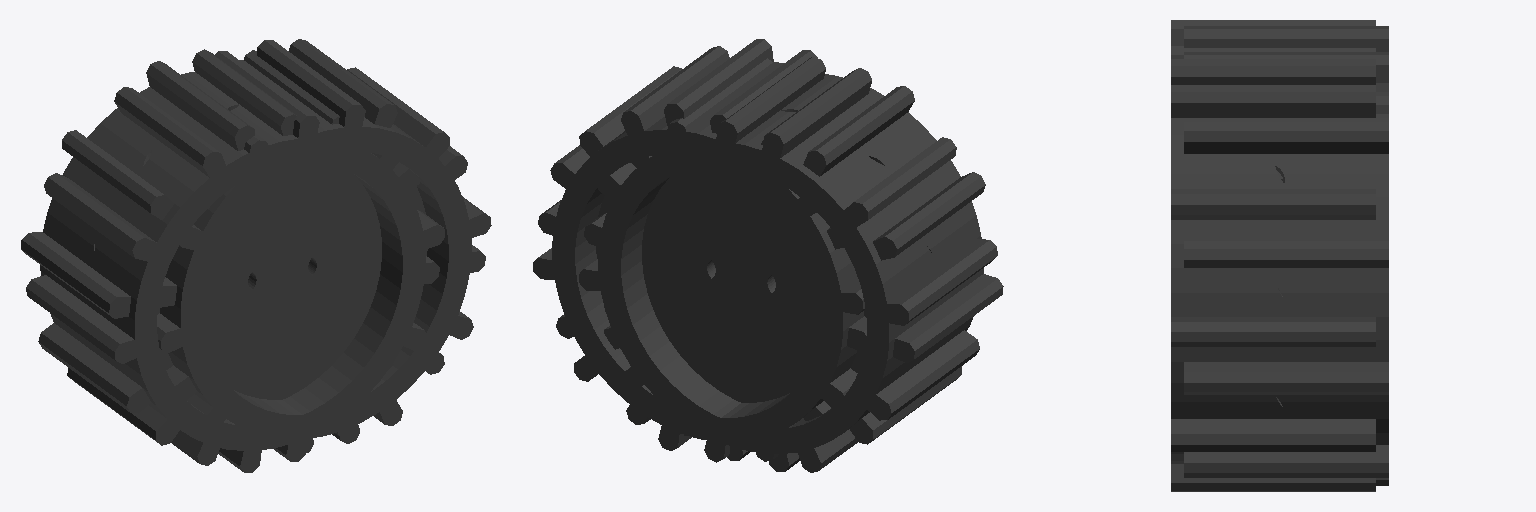
robot.urdf — CubeBuilder:
<?xml version="1.0" ?>
<robot name="CubeBuilder">

    <!-- Structure -->
    <link name="structure">
        <visual>
            <geometry>
                <mesh filename="BuildingBlocks_main_structure_v2.stl" scale="10 10 10"/>
            </geometry>
            <material name="dark_grey">
                <color rgba="0.6 0.6 0.6 1"/>
            </material>
        </visual>
        <collision>
            <geometry>
                <mesh filename="BuildingBlocks_main_structure.stl" scale="10 10 10"/>
            </geometry>
        </collision>
        <inertial>
            <mass value="1.0"/>
            <inertia ixx="0.1" ixy="0" ixz="0" iyy="0.1" iyz="0" izz="0.1"/>
            <origin xyz="0 0 0" rpy="0 0 0"/>
        </inertial>
    </link>

    <!-- Wheel Links -->
    <link name="wheel_FR">
        <visual>
            <geometry>
                <mesh filename="BuildingBlocks_wheel.stl" scale="10 10 10"/>
            </geometry>
            <material name="black">
                <color rgba="0.3 0.3 0.3 1"/>
            </material>
        </visual>
        <collision>
            <geometry>
                <mesh filename="BuildingBlocks_wheel.stl" scale="10 10 10"/>
            </geometry>
        </collision>
        <inertial>
            <mass value="0.05"/>
            <inertia ixx="0.01" ixy="0" ixz="0" iyy="0.01" iyz="0" izz="0.01"/>
        </inertial>
    </link>

    <link name="wheel_FL">
        <visual>
            <geometry>
                <mesh filename="BuildingBlocks_wheel.stl" scale="10 10 10"/>
            </geometry>
            <material name="black">
                <color rgba="0.3 0.3 0.3 1"/>
            </material>
        </visual>
        <collision>
            <geometry>
                <mesh filename="BuildingBlocks_wheel.stl" scale="10 10 10"/>
            </geometry>
        </collision>
        <inertial>
            <mass value="0.05"/>
            <inertia ixx="0.01" ixy="0" ixz="0" iyy="0.01" iyz="0" izz="0.01"/>
        </inertial>
    </link>

    <link name="wheel_RR">
        <visual>
            <geometry>
                <mesh filename="BuildingBlocks_wheel.stl" scale="10 10 10"/>
            </geometry>
            <material name="black">
                <color rgba="0.3 0.3 0.3 1"/>
            </material>
        </visual>
        <collision>
            <geometry>
                <mesh filename="BuildingBlocks_wheel.stl" scale="10 10 10"/>
            </geometry>
        </collision>
        <inertial>
            <mass value="0.05"/>
            <inertia ixx="0.01" ixy="0" ixz="0" iyy="0.01" iyz="0" izz="0.01"/>
        </inertial>
    </link>

    <link name="wheel_RL">
        <visual>
            <geometry>
                <mesh filename="BuildingBlocks_wheel.stl" scale="10 10 10"/>
            </geometry>
            <material name="black">
                <color rgba="0.3 0.3 0.3 1"/>
            </material>
        </visual>
        <collision>
            <geometry>
                <mesh filename="BuildingBlocks_wheel.stl" scale="10 10 10"/>
            </geometry>
        </collision>
        <inertial>
            <mass value="0.05"/>
            <inertia ixx="0.01" ixy="0" ixz="0" iyy="0.01" iyz="0" izz="0.01"/>
        </inertial>
    </link>

    <!-- Joints to Attach Wheels to Structure with Free Rotation on Y-axis -->

    <!-- Front Right Wheel -->
    <joint name="wheel_FR_joint" type="continuous">
        <parent link="structure"/>
        <child link="wheel_FR"/>
        <origin xyz="0.0307204 -0.0436276 0." rpy="0 0 0"/>
        <axis xyz="0 1 0"/>
    </joint>

    <!-- Front Left Wheel -->
    <joint name="wheel_FL_joint" type="continuous">
        <parent link="structure"/>
        <child link="wheel_FL"/>
        <origin xyz="0.0307204 0.0436276 0" rpy="0 0 3.14159"/>
        <axis xyz="0 1 0"/>
    </joint>

    <!-- Rear Right Wheel -->
    <joint name="wheel_RR_joint" type="continuous">
        <parent link="structure"/>
        <child link="wheel_RR"/>
        <origin xyz="-0.030635 -0.0436276 0" rpy="0 0 0"/>
        <axis xyz="0 1 0"/>
    </joint>

    <!-- Rear Left Wheel -->
    <joint name="wheel_RL_joint" type="continuous">
        <parent link="structure"/>
        <child link="wheel_RL"/>
        <origin xyz="-0.030635 0.0436276 0" rpy="0 0 3.14159"/>
        <axis xyz="0 1 0"/>
    </joint>

</robot>

--- Facts derived from the render (not from the file) ---
3 views of the same robot in one strip: view 1: azimuth 30°, elevation 25°; view 2: azimuth 150°, elevation 25°; view 3: azimuth 270°, elevation 25° (orthographic).
Robot: CubeBuilder — 5 links, 4 joints (4 continuous); root link structure; default pose: every joint at zero.
Links seen in each view (by area): view 1: wheel_RR, wheel_FR, wheel_RL, wheel_FL; view 2: wheel_FL, wheel_RL, wheel_RR, wheel_FR; view 3: wheel_FR, wheel_FL, wheel_RR, wheel_RL.
Boxes of the visible links, x1,y1,x2,y2 form: wheel_RR: [26, 51, 444, 472]; wheel_FR: [157, 40, 491, 461]; wheel_RL: [21, 50, 439, 465]; wheel_FL: [159, 39, 485, 443]; wheel_FL: [533, 46, 864, 461]; wheel_RL: [579, 58, 997, 472]; wheel_RR: [584, 50, 1003, 471]; wheel_FR: [538, 39, 866, 460]; wheel_FR: [1171, 46, 1375, 491]; wheel_FL: [1184, 52, 1388, 485]; wheel_RR: [1171, 20, 1375, 296]; wheel_RL: [1184, 26, 1388, 113].
Bounding box of the posed robot: 0.5028 × 0.2173 × 0.4378 m (x, y, z).
Meshes: 2 distinct files referenced, 4 mesh visuals loaded (1 binary STL); not drawn: 1 (reference not matched to a file when rendering).